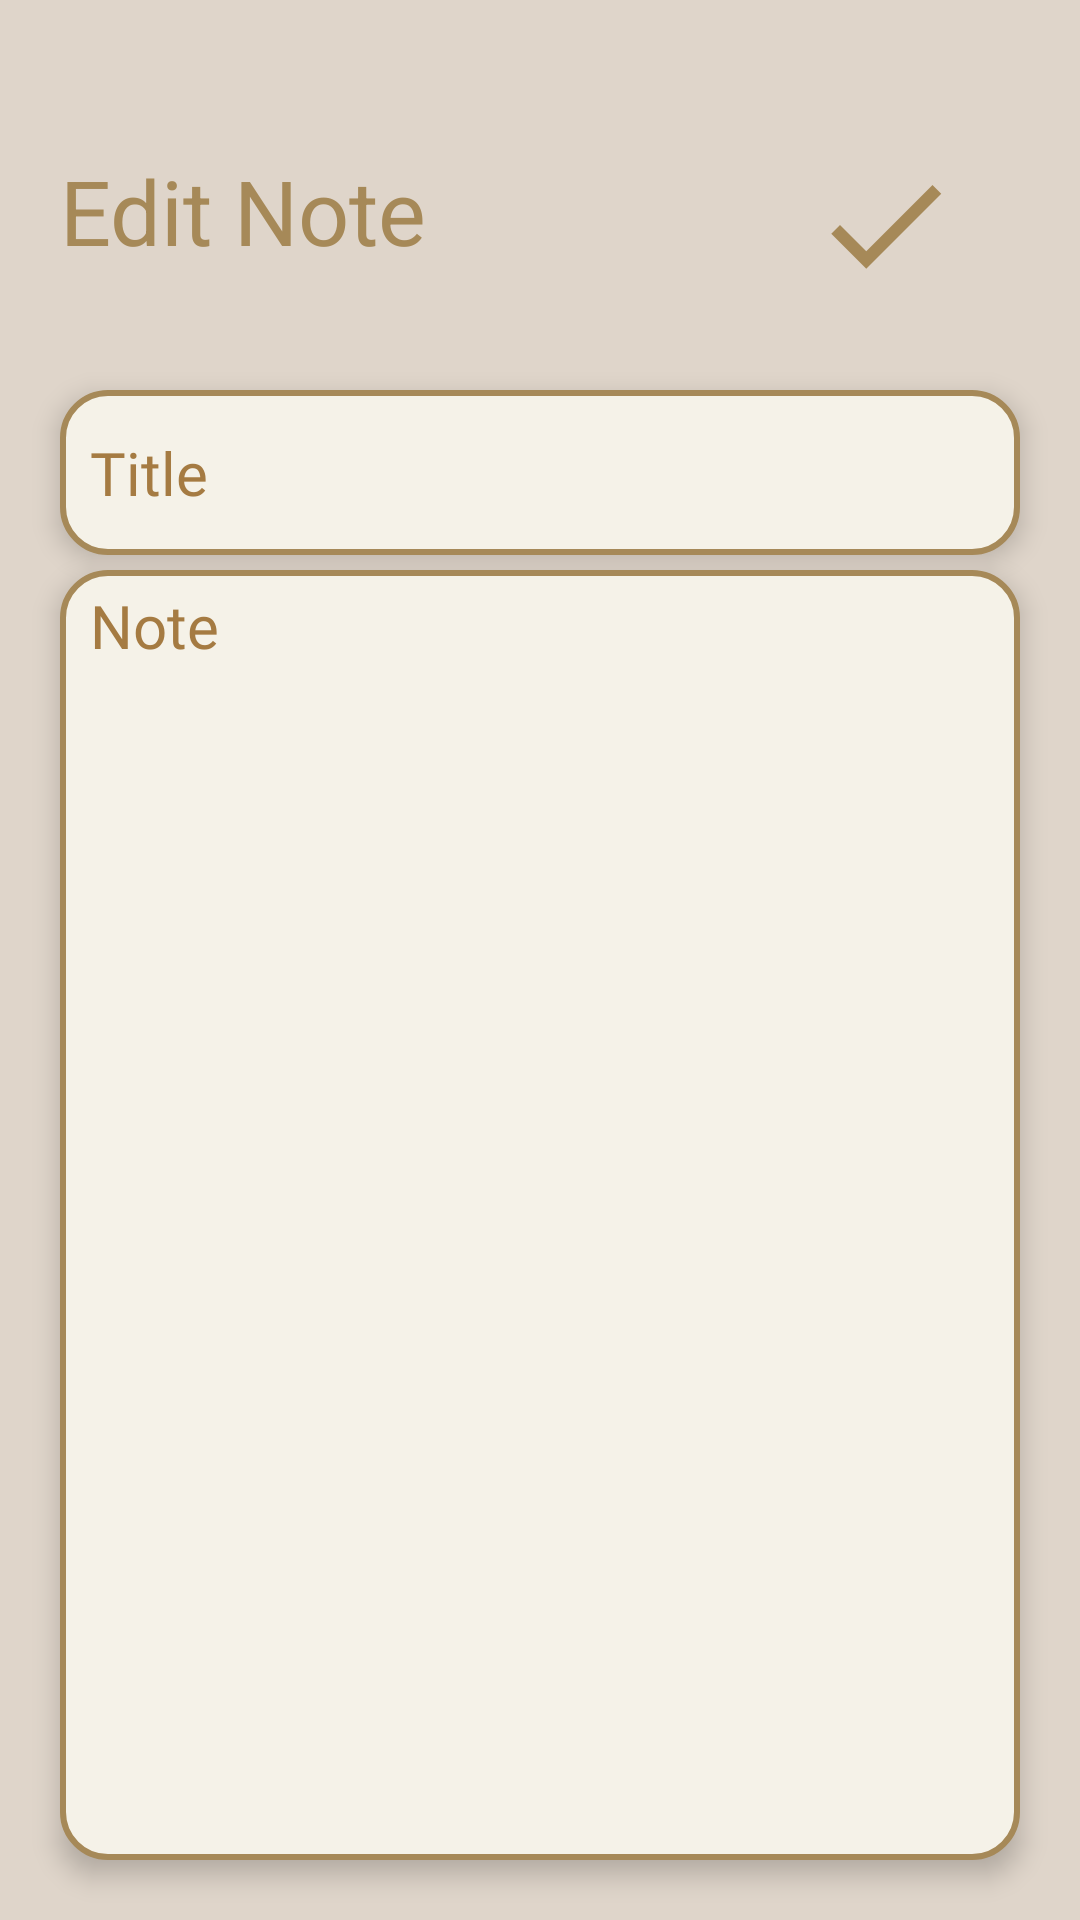

Where to tap for icons on this 1080*1920 app screen, as [x,y]:
done: [886,227]
